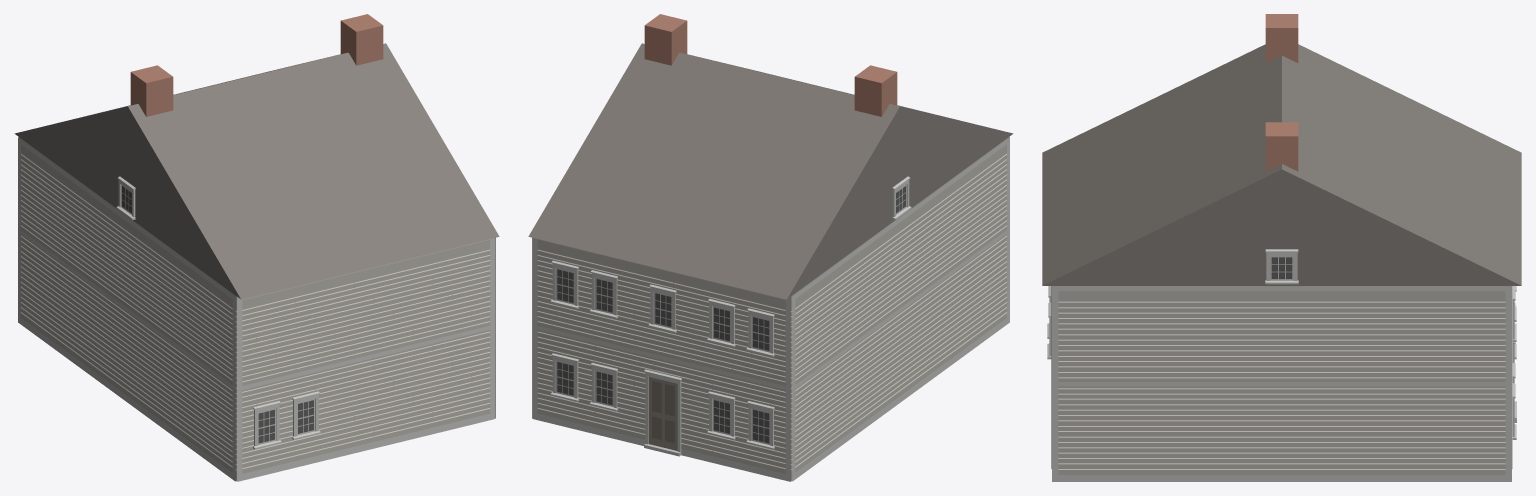
Rendered from recon_1835_blk_randolph_clark_h2_02__inferred_1835.glb.
3 views of the same model, side by side, from view 1: azimuth 30°, elevation 25°; view 2: azimuth 150°, elevation 25°; view 3: azimuth 270°, elevation 25° (orthographic). The views are drawn at different scales.
Parts seen in each view (by area): view 1: recon_1835_blk_randolph_clark_h2_02__inferred_1835; view 2: recon_1835_blk_randolph_clark_h2_02__inferred_1835; view 3: recon_1835_blk_randolph_clark_h2_02__inferred_1835.
Part boxes in pixels (bbox=[...]): recon_1835_blk_randolph_clark_h2_02__inferred_1835: bbox=[14, 14, 499, 481]; recon_1835_blk_randolph_clark_h2_02__inferred_1835: bbox=[528, 14, 1013, 481]; recon_1835_blk_randolph_clark_h2_02__inferred_1835: bbox=[1042, 14, 1521, 481].
Size of the model in its own units: 8.26 by 9.58 by 12.25.
